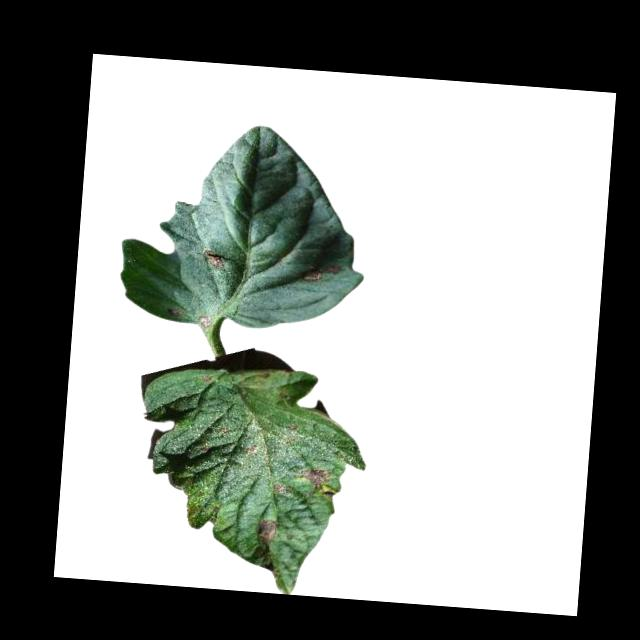Early_blight: (301, 462, 343, 501), (256, 515, 278, 549), (199, 247, 230, 265), (270, 479, 287, 499), (197, 311, 213, 329)
